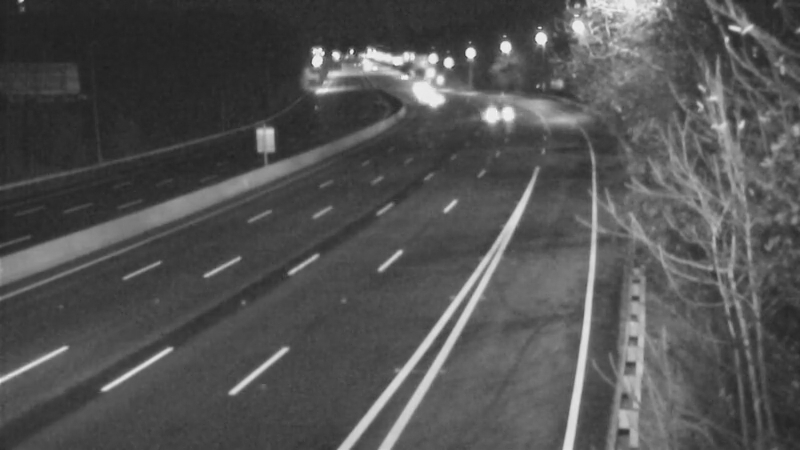vehicle: (389, 63, 439, 113), (394, 69, 444, 119), (409, 74, 459, 124), (468, 90, 518, 140)
